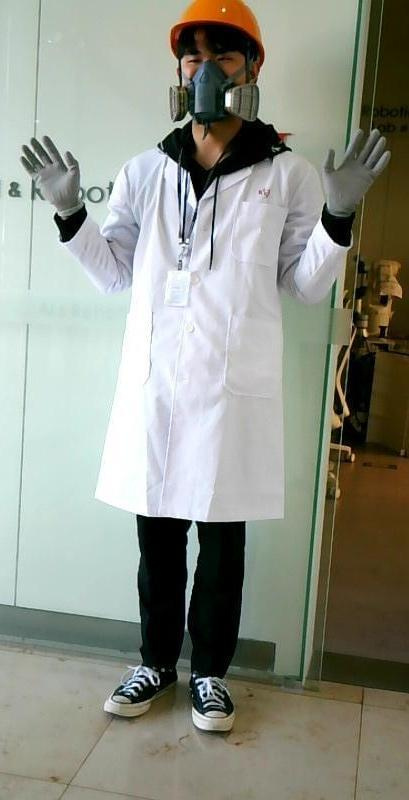lab_coat: (92, 164, 300, 515)
